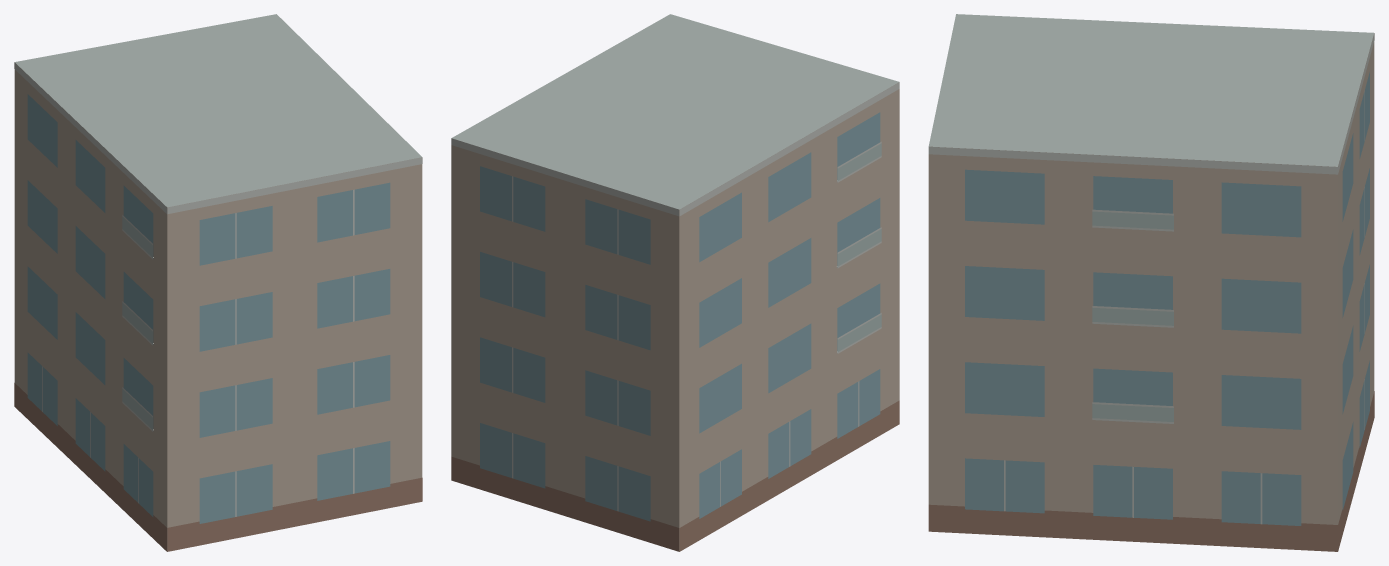
Rendered from survey-upis-32980358.glb.
3 renders of one model, left to right at view 1: azimuth 30°, elevation 25°; view 2: azimuth 150°, elevation 25°; view 3: azimuth 270°, elevation 25°, orthographic. The views are drawn at different scales.
Parts seen in each view (by area): view 1: survey-upis-32980358.tmp; view 2: survey-upis-32980358.tmp; view 3: survey-upis-32980358.tmp.
Part boxes in pixels (bbox=[...]): survey-upis-32980358.tmp: bbox=[14, 14, 422, 551]; survey-upis-32980358.tmp: bbox=[451, 14, 899, 551]; survey-upis-32980358.tmp: bbox=[928, 14, 1374, 551].
Bounding box in the file's own units: 10.4 × 12.2 × 12.81.
